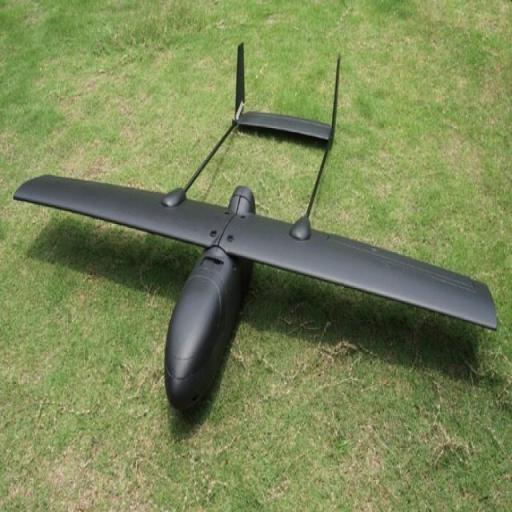uav: (9, 51, 502, 407)
